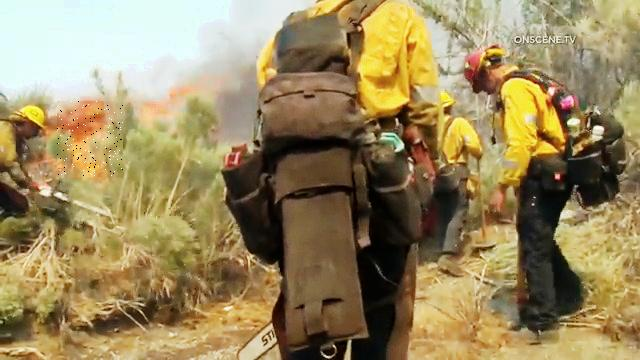fire: (57, 102, 123, 177)
